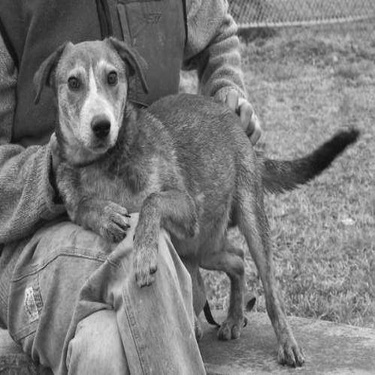dog: (21, 24, 368, 367)
